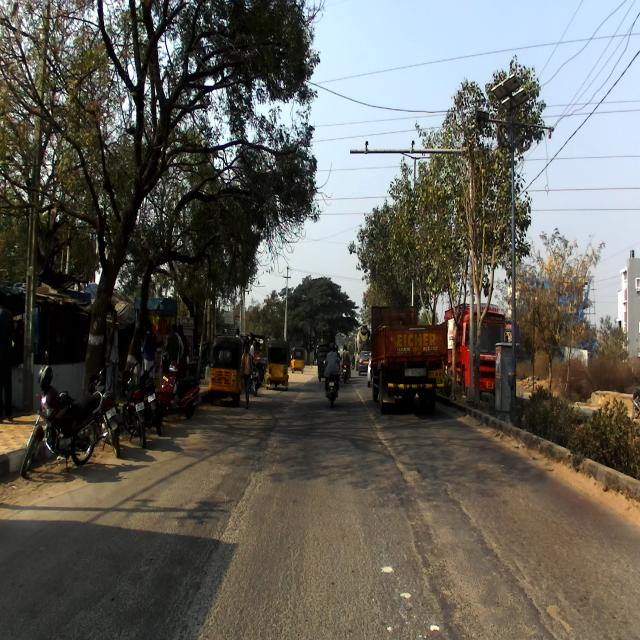auto ahead at: (207, 334, 245, 408)
motorcycle ahead at: (21, 368, 102, 482)
truck ahead at: (368, 293, 446, 412)
